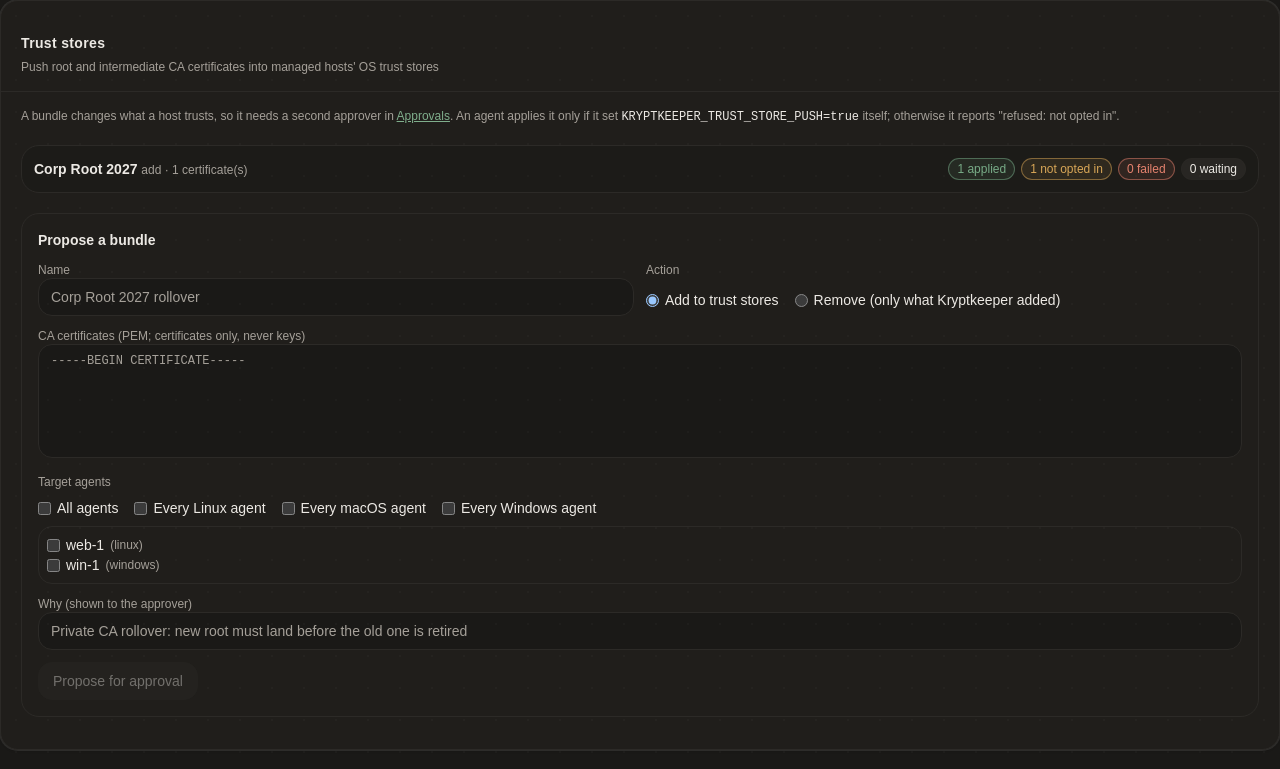
Test case: TrustStoresPanel (W40-03) › shows per-host results for a bundle
Click the button "Corp Root 2027" at [86, 169], box [34,158,1246,180]
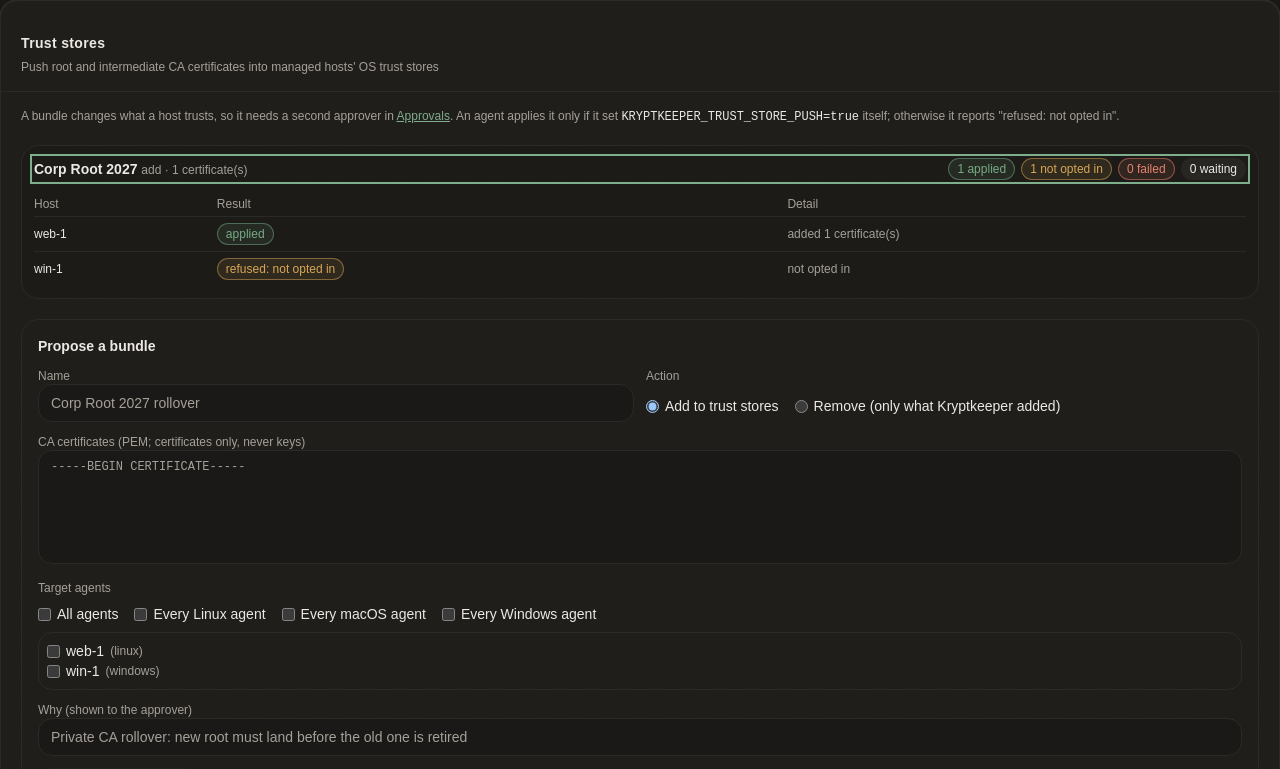
expect the table with test id "trust-hosts" shows "web-1": met, box [34,227,67,241]
expect the table with test id "trust-hosts" shows "applied": met, box [226,227,265,241]
expect the table with test id "trust-hosts" shows "win-1": met, box [34,262,63,276]
